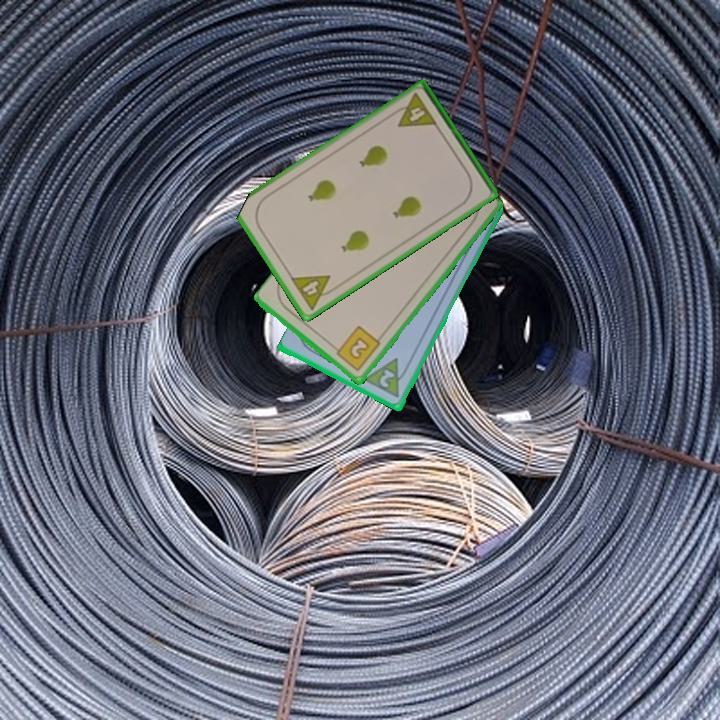2b: (330, 323, 383, 375)
2p: (362, 355, 413, 401)
4p: (287, 271, 340, 313), (388, 90, 440, 131)
